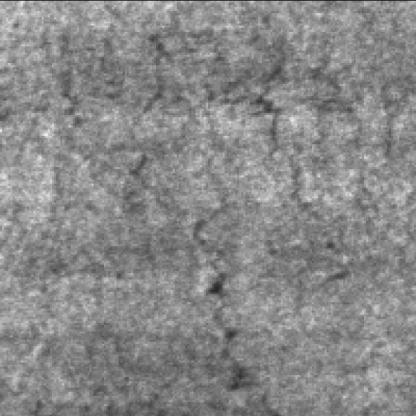crazing: (247, 90, 358, 368), (169, 119, 274, 403), (133, 0, 285, 154), (297, 13, 389, 162)
